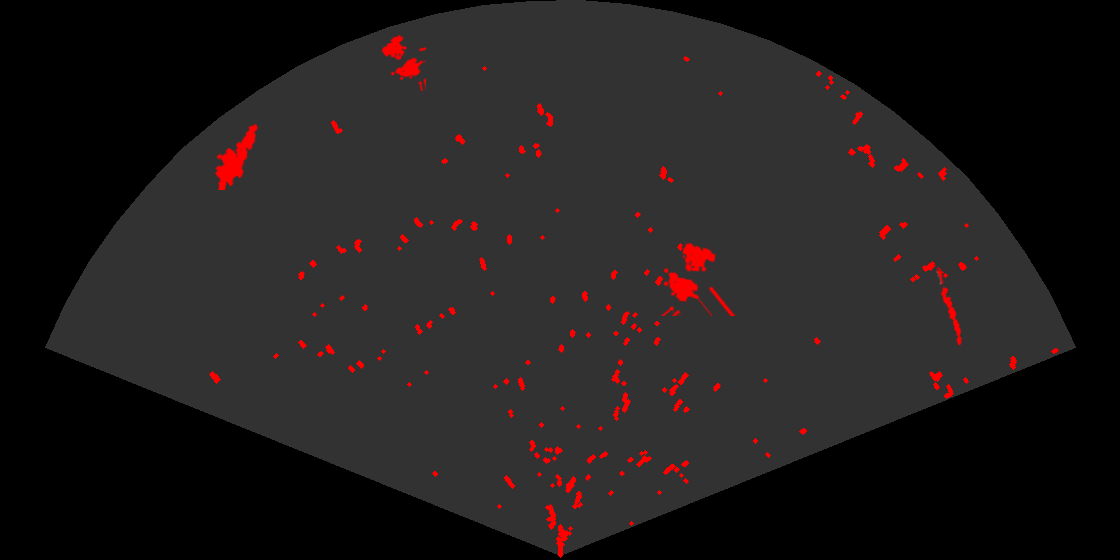cage: (659, 241, 736, 316), (380, 33, 426, 91)
chain: (933, 264, 964, 348)
frogman: (213, 122, 259, 190)
